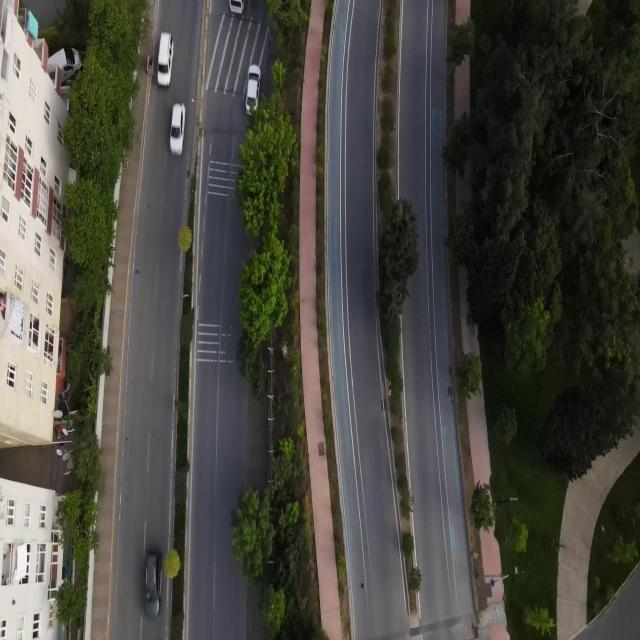p3rson: (0, 298, 5, 311), (57, 433, 61, 440)
